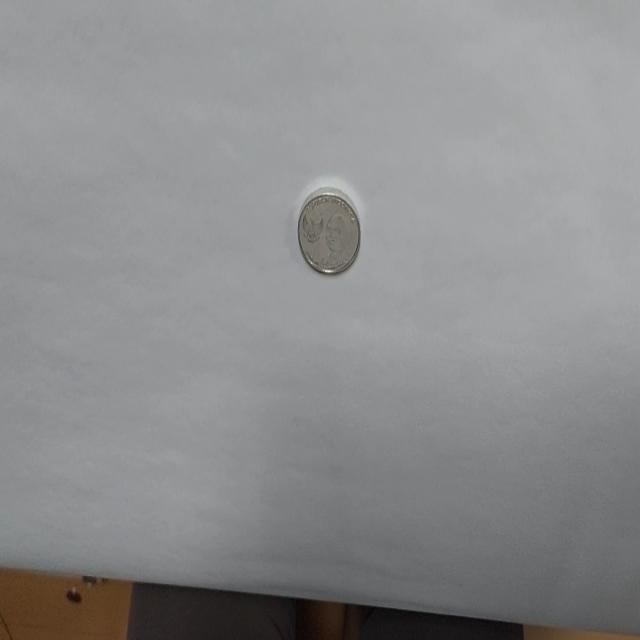lima ratus rupiah: (296, 188, 361, 276)
